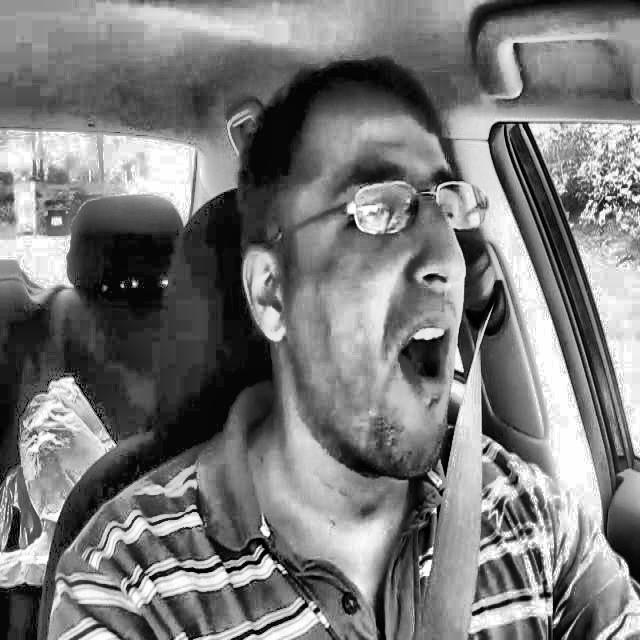open_mouth: (379, 304, 459, 411)
